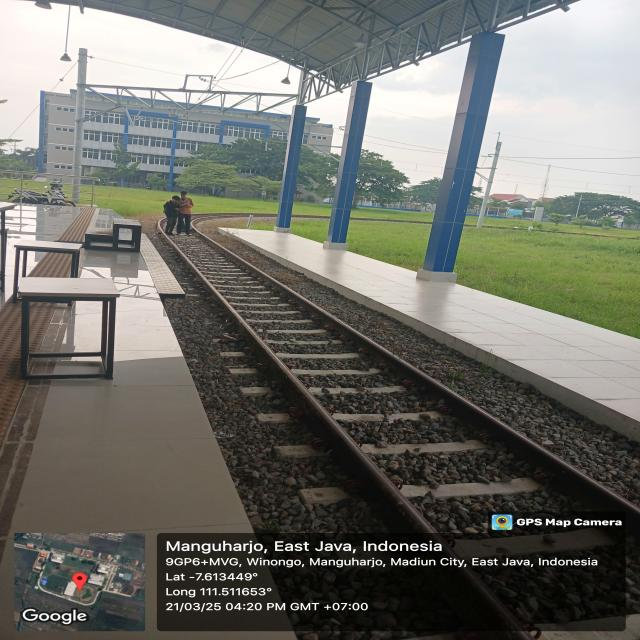rail-detection: (199, 233, 640, 546), (167, 240, 442, 540), (459, 570, 516, 627)
